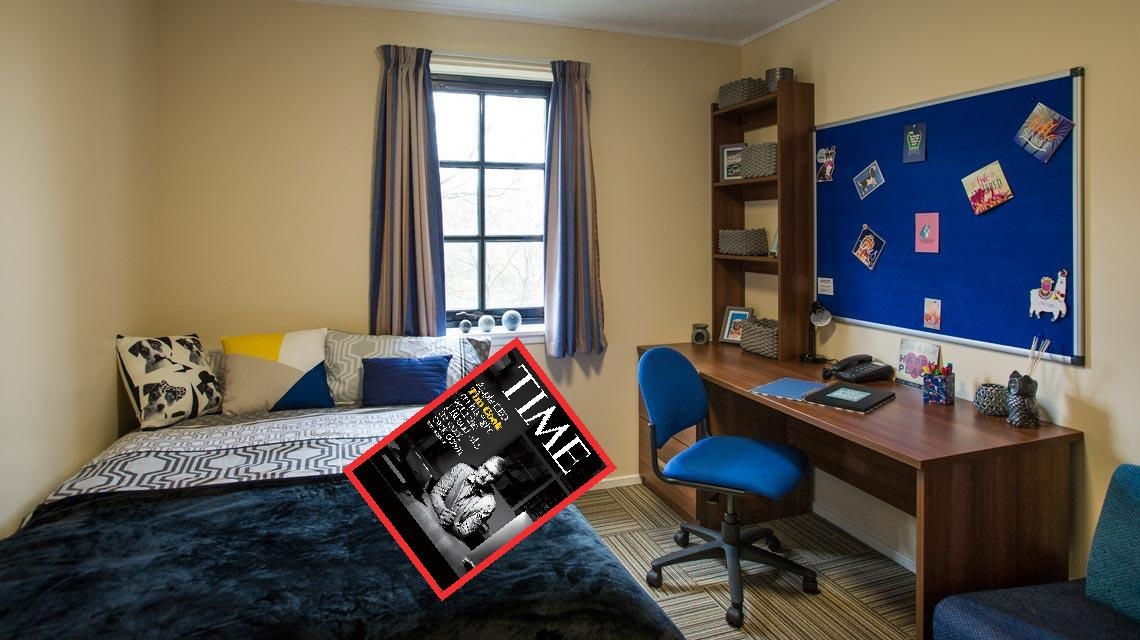times: (336, 336, 620, 603)
